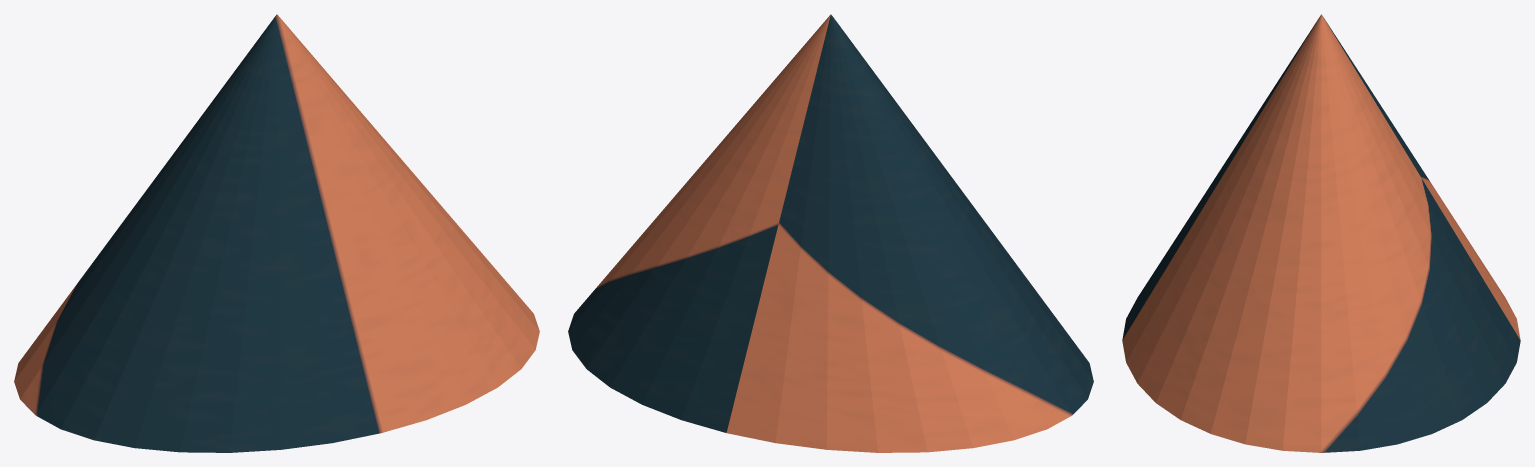
3 views of the same model, side by side, from view 1: azimuth 30°, elevation 25°; view 2: azimuth 150°, elevation 25°; view 3: azimuth 270°, elevation 25° (orthographic). The views are drawn at different scales.
Visible parts, largest first — view 1: geometry_0; view 2: geometry_0; view 3: geometry_0.
Boxes of the visible parts, bbox=[...] form: geometry_0: bbox=[14, 14, 539, 452]; geometry_0: bbox=[568, 14, 1093, 452]; geometry_0: bbox=[1122, 14, 1520, 452].
Size of the model in its own units: 1.24 by 0.8412 by 0.9297.
Materials: 1 (1 with a texture image).
